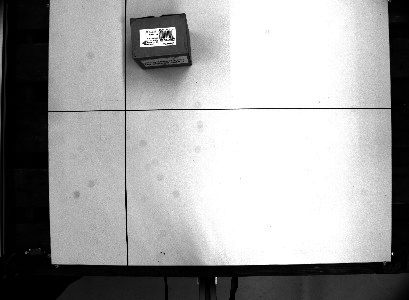b5: (127, 11, 196, 71)
